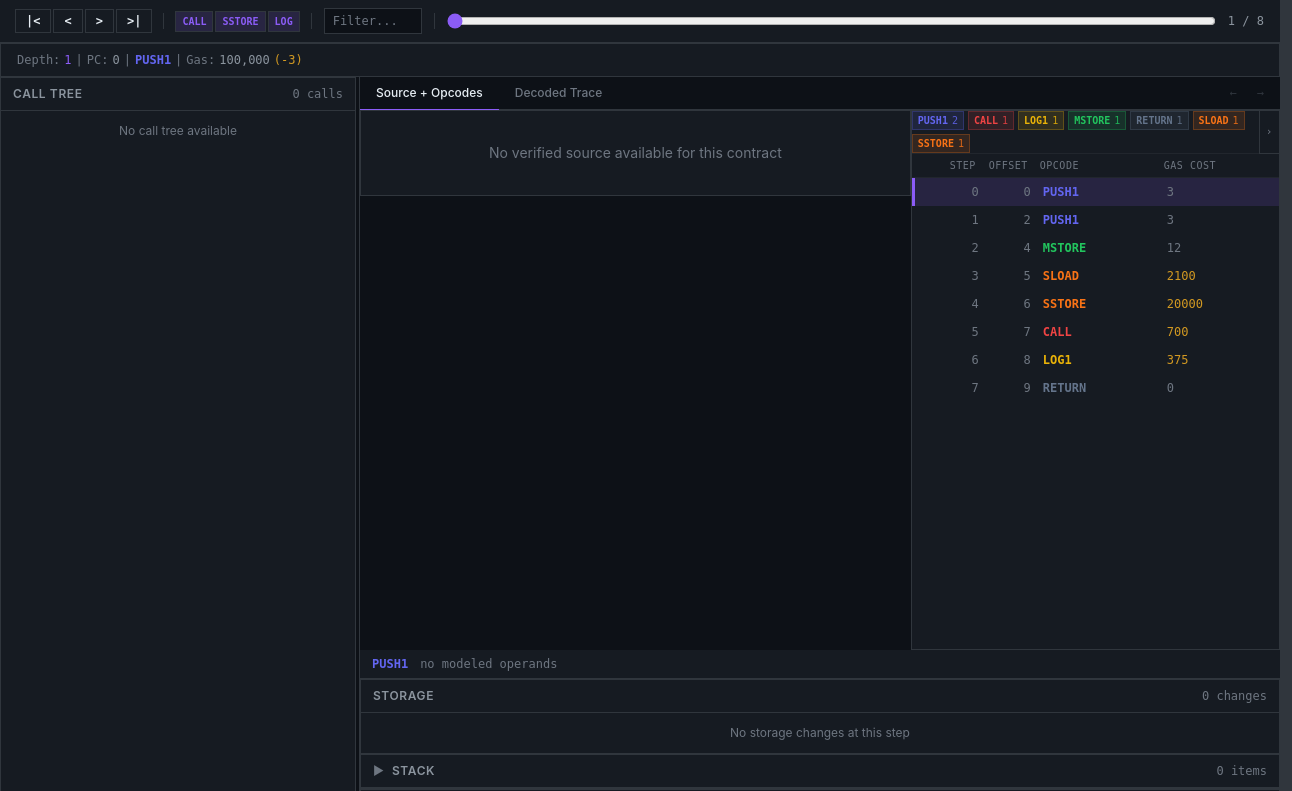
Test: StepDebugger › jumps to next storage op (SLOAD/SSTORE)
The image size is (1292, 791).
Click the button titled "Next SSTORE (S)": (241, 21) [216, 12, 265, 30]
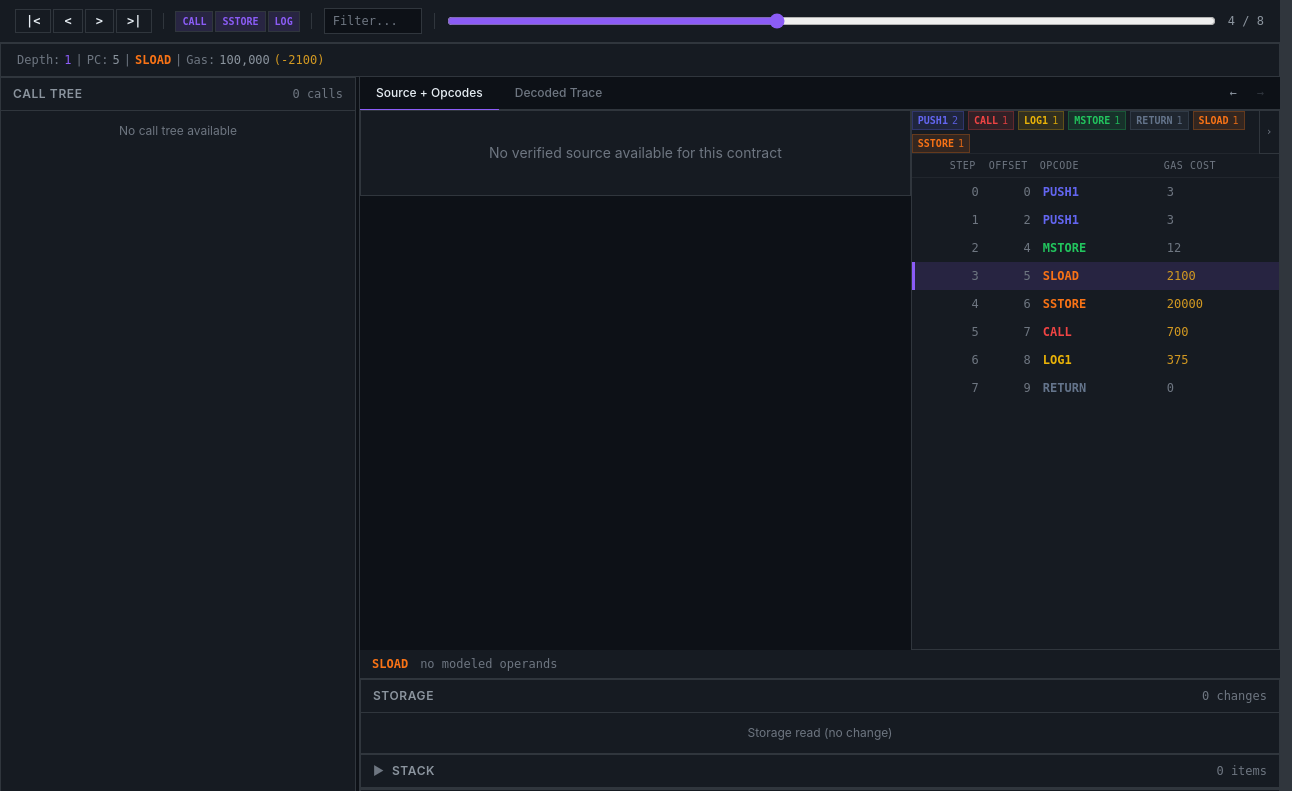
Expected: the text "4 / 8" is shown, [1228, 13, 1264, 29]
